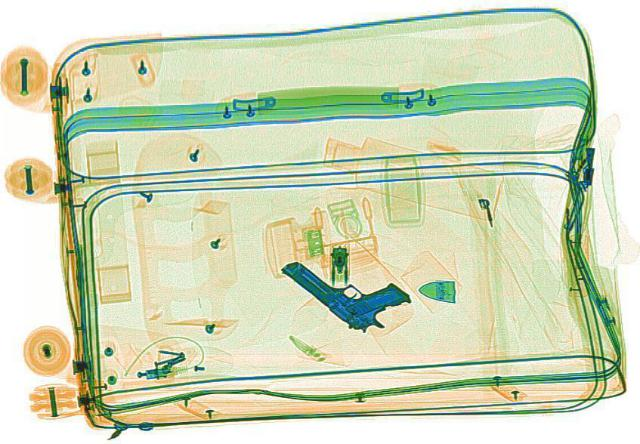Gun: (274, 236, 426, 335)
